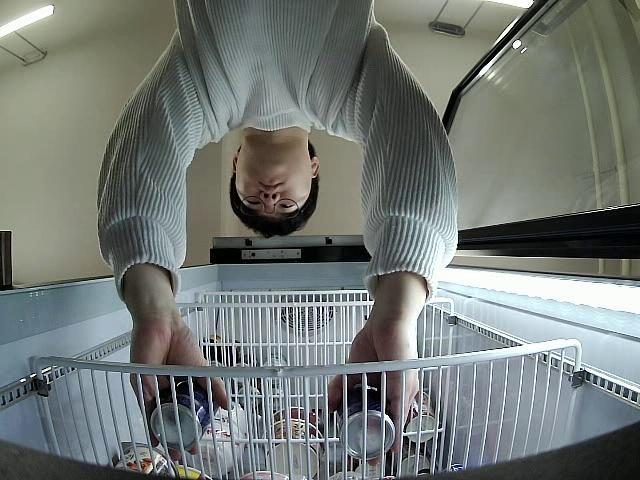16_hot6: (151, 377, 224, 452), (334, 384, 397, 460)
